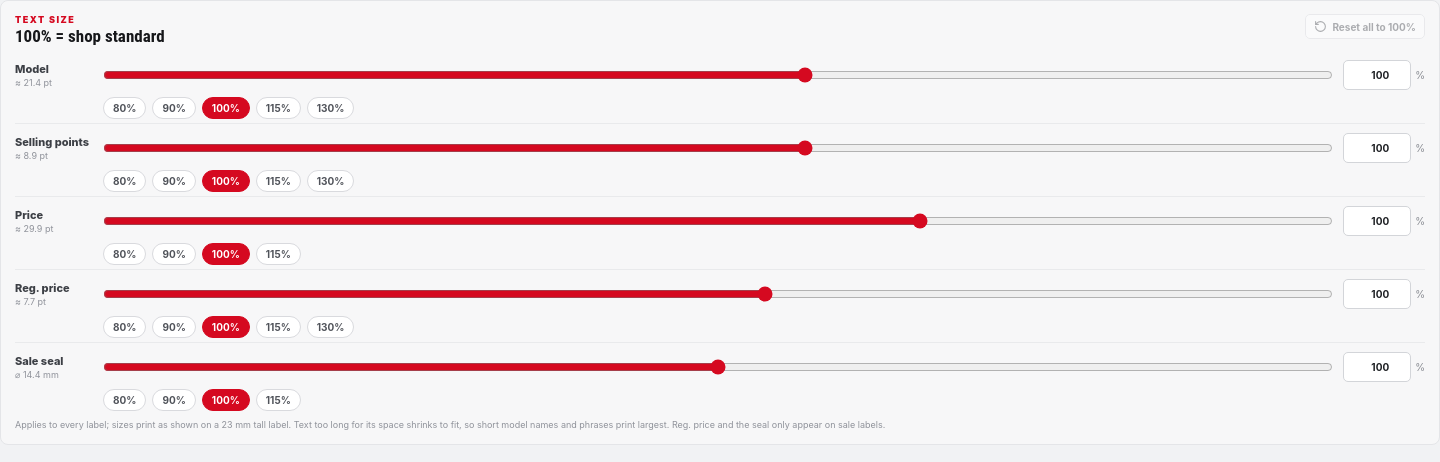
label text size controls › clamps a typed number to each size's own range when leaving the field
Replace the text in the number field named "Selling point text size in percent" with "120" at x=1377, y=148, box [1343,133,1411,163]
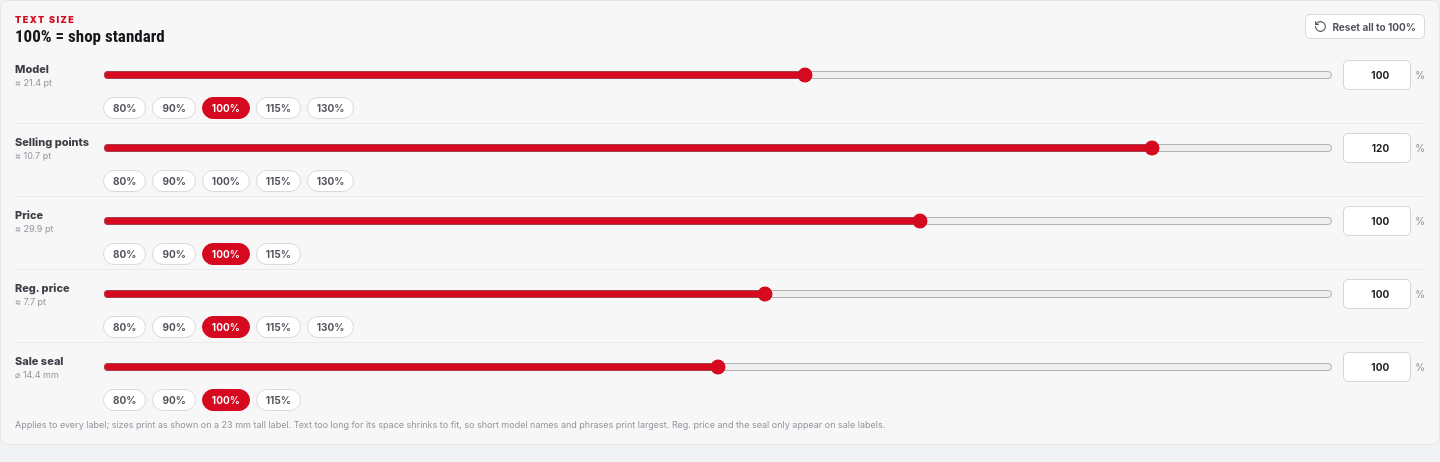
Now the slider named "Selling point text size slider" holds "120", box [103,140,1333,156]
Replace the text in the number field named "Selling point text size in percent" with "999" at x=1377, y=148, box [1343,133,1411,163]
Leave the number field named "Selling point text size in percent", box [1343,133,1411,163]
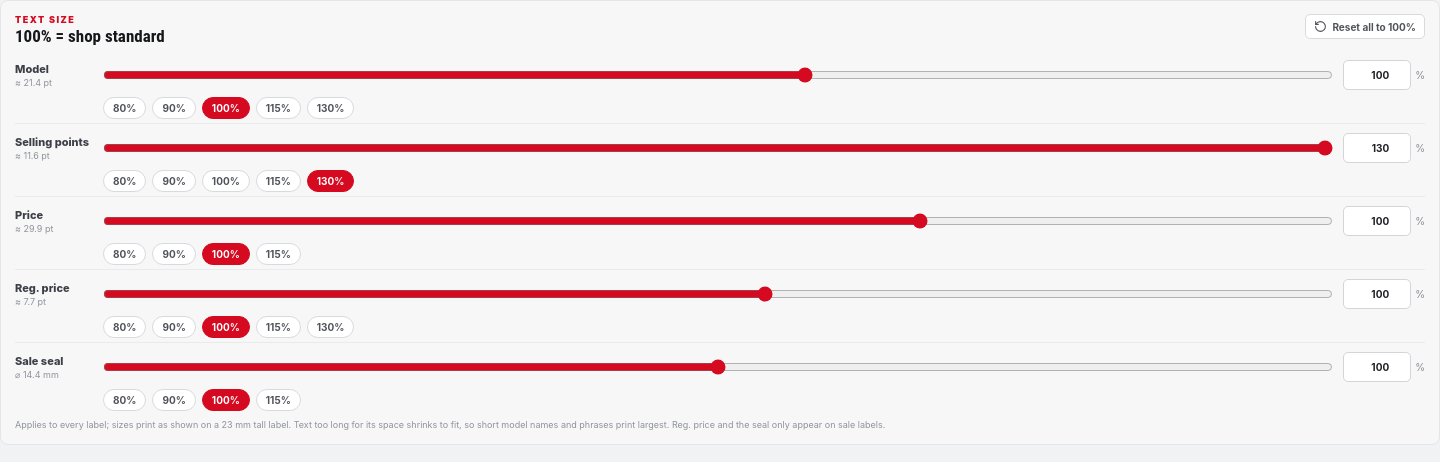
Now the number field named "Selling point text size in percent" holds "130", box [1343,133,1411,163]
Replace the text in the number field named "Price text size in percent" with "10" at x=1377, y=221, box [1343,206,1411,236]
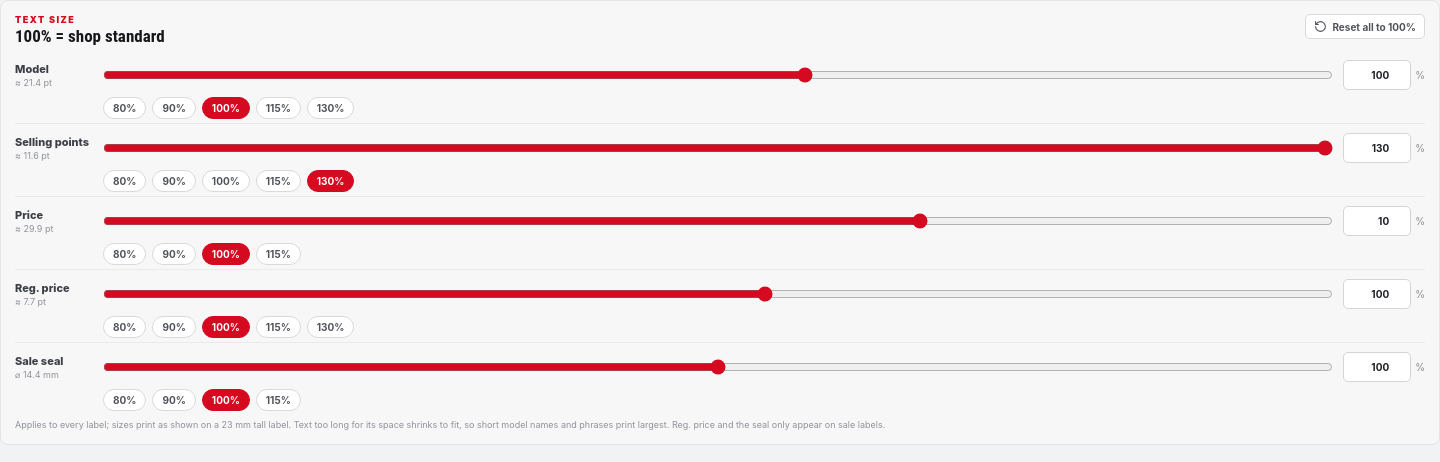
Leave the number field named "Price text size in percent", box [1343,206,1411,236]
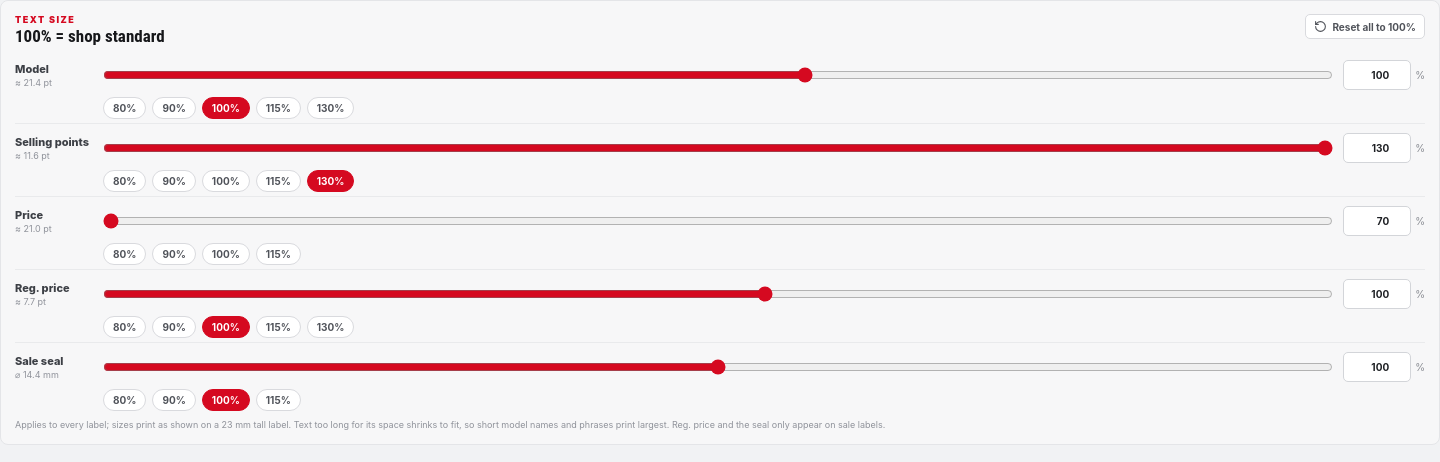
Now the number field named "Price text size in percent" holds "70", box [1343,206,1411,236]
Replace the text in the number field named "Sale seal text size in percent" with "500" at x=1377, y=367, box [1343,352,1411,382]
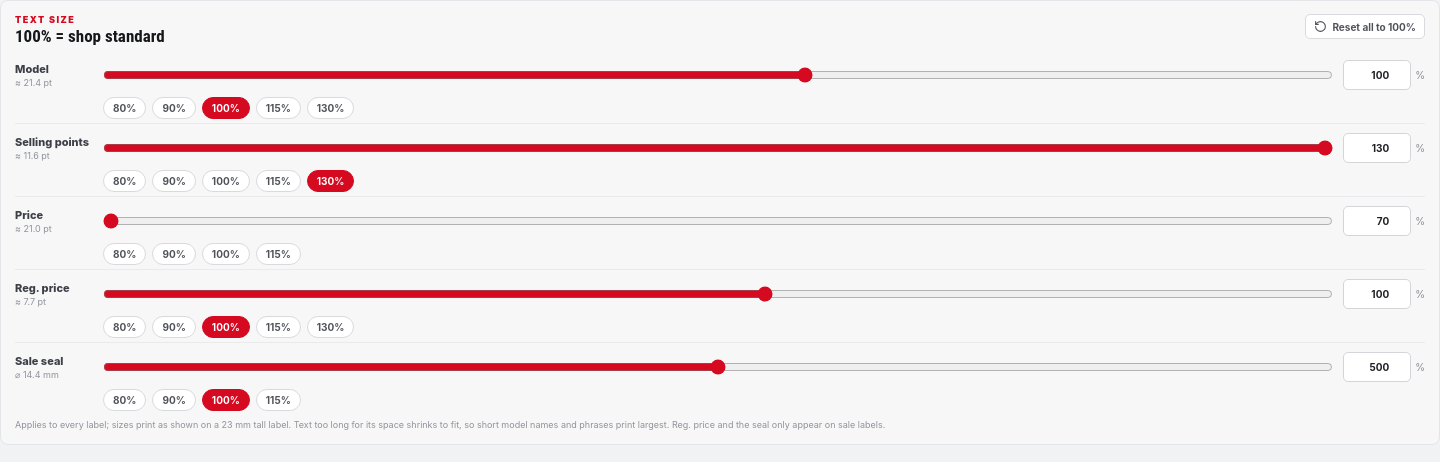
Leave the number field named "Sale seal text size in percent", box [1343,352,1411,382]
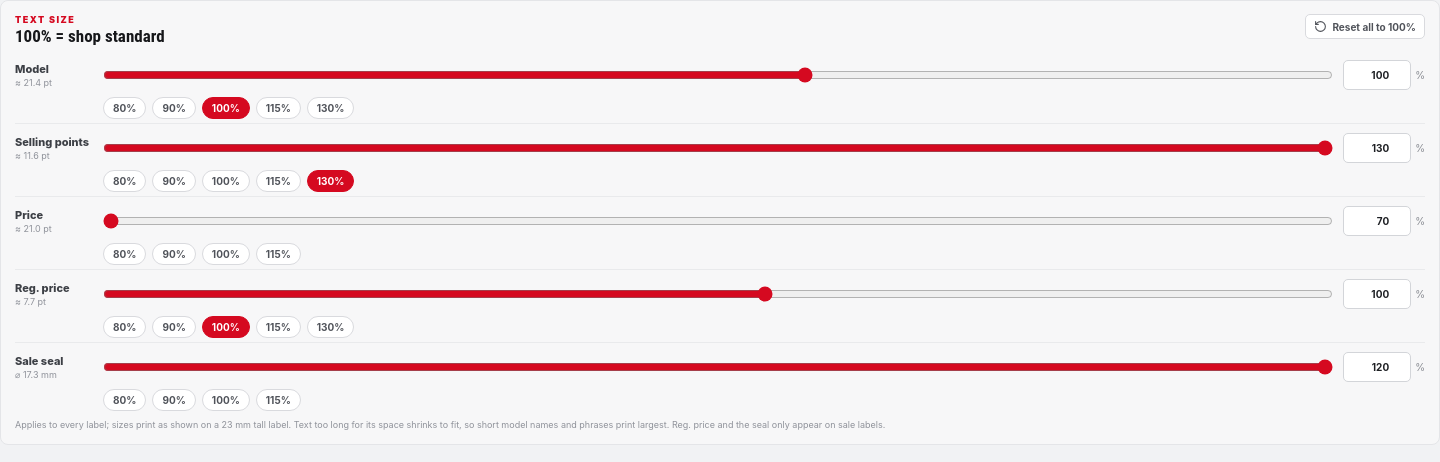
Now the number field named "Sale seal text size in percent" holds "120", box [1343,352,1411,382]
